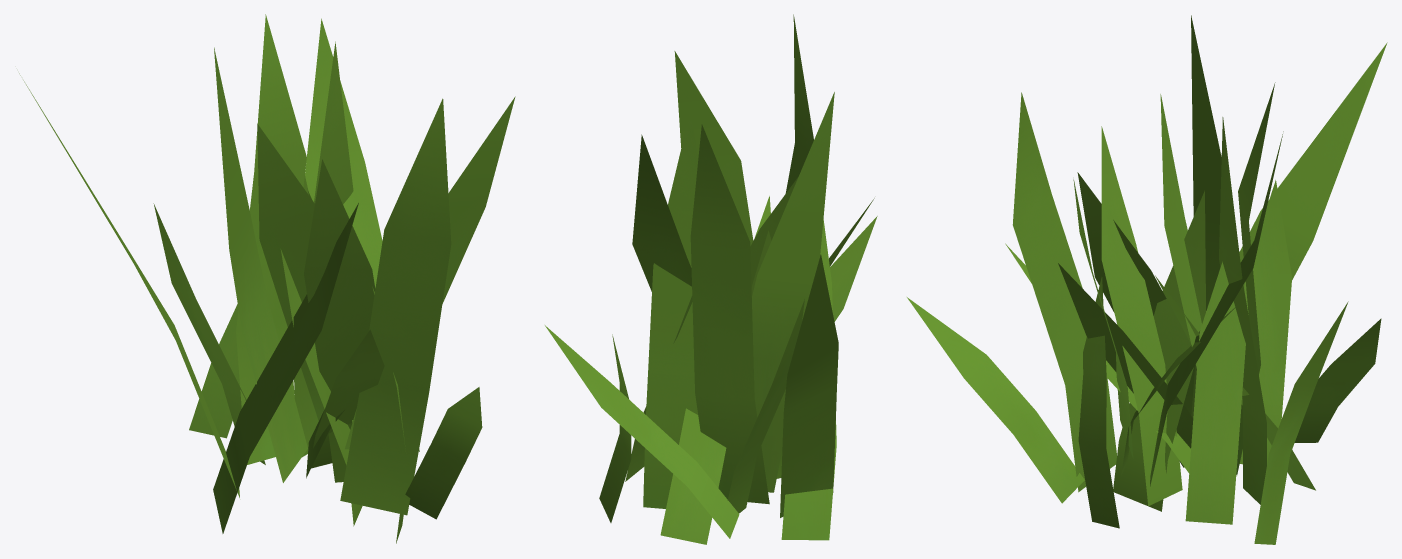
Rendered from grass_sheep.fbx.
3 renders of one model, left to right at view 1: azimuth 30°, elevation 25°; view 2: azimuth 150°, elevation 25°; view 3: azimuth 270°, elevation 25°, orthographic. The views are drawn at different scales.
Visible parts, largest first — view 1: grass_sheep; view 2: grass_sheep; view 3: grass_sheep.
Part boxes in pixels (x1=…): grass_sheep: x1=19, y1=14, x2=515, y2=543; grass_sheep: x1=545, y1=14, x2=877, y2=544; grass_sheep: x1=907, y1=15, x2=1387, y2=544.
Size of the model in its own units: 47.24 by 67.2 by 65.1.
Materials: 1 (1 with a texture image).
